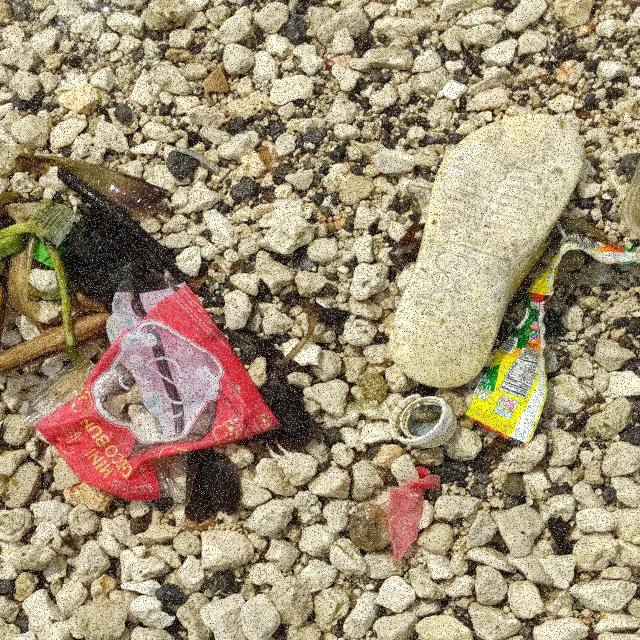plastic_waste: (18, 279, 284, 503), (466, 286, 547, 449), (390, 394, 459, 450)
rubber_waste: (390, 115, 585, 389)
